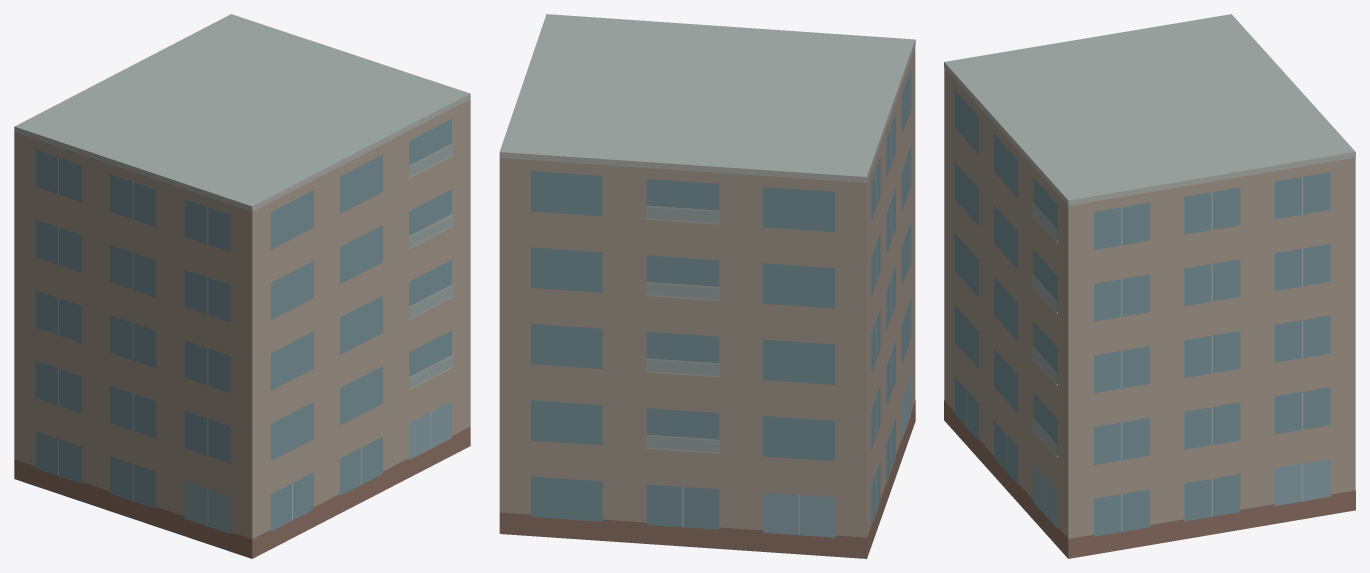
File: survey-upis-32853046.glb
The picture shows the model from 3 angles, left to right: view 1: azimuth 30°, elevation 25°; view 2: azimuth 150°, elevation 25°; view 3: azimuth 270°, elevation 25°; orthographic projection. The views are drawn at different scales.
Parts seen in each view (by area): view 1: survey-upis-32853046.tmp; view 2: survey-upis-32853046.tmp; view 3: survey-upis-32853046.tmp.
Part boxes in pixels (x1,y1,x2,y2): survey-upis-32853046.tmp: (14,14,470,558); survey-upis-32853046.tmp: (499,14,915,558); survey-upis-32853046.tmp: (944,14,1355,558).
Size of the model in its own units: 17.53 by 15.7 by 16.36.
